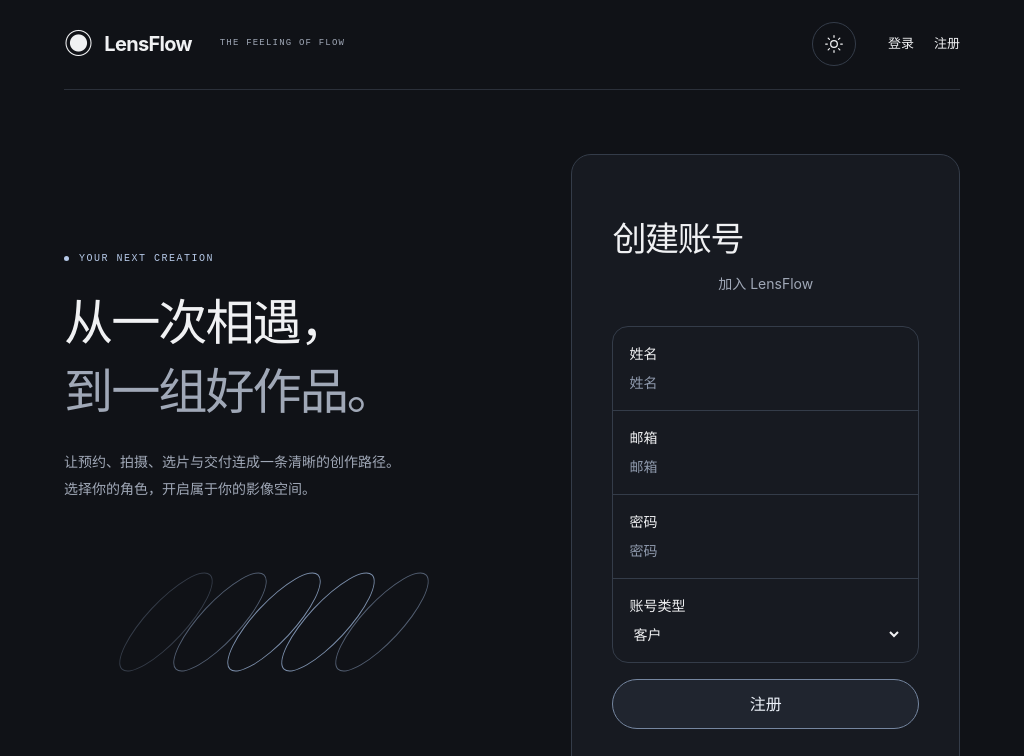
Test: RegisterPage regression › keeps the login link and displays a rejected registration
In the field with placeholder "姓名": {"x": 766, "y": 383} [629,372,902,393], type "新用户"
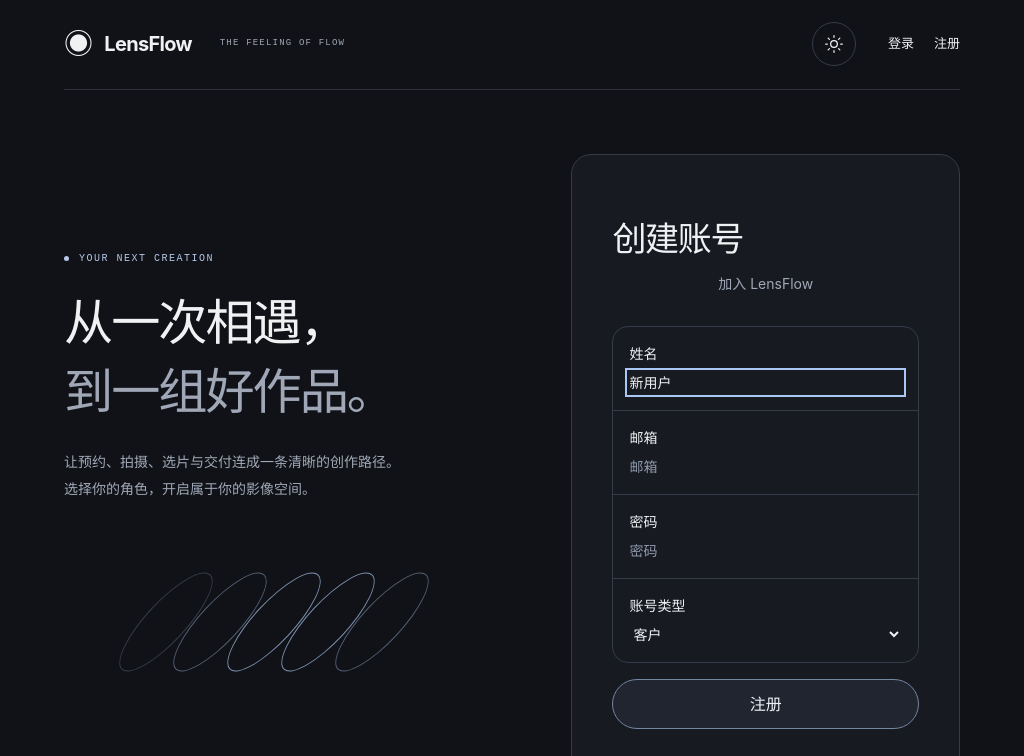
In the field with placeholder "邮箱": {"x": 766, "y": 467} [629,456,902,477], type "new@example.com"
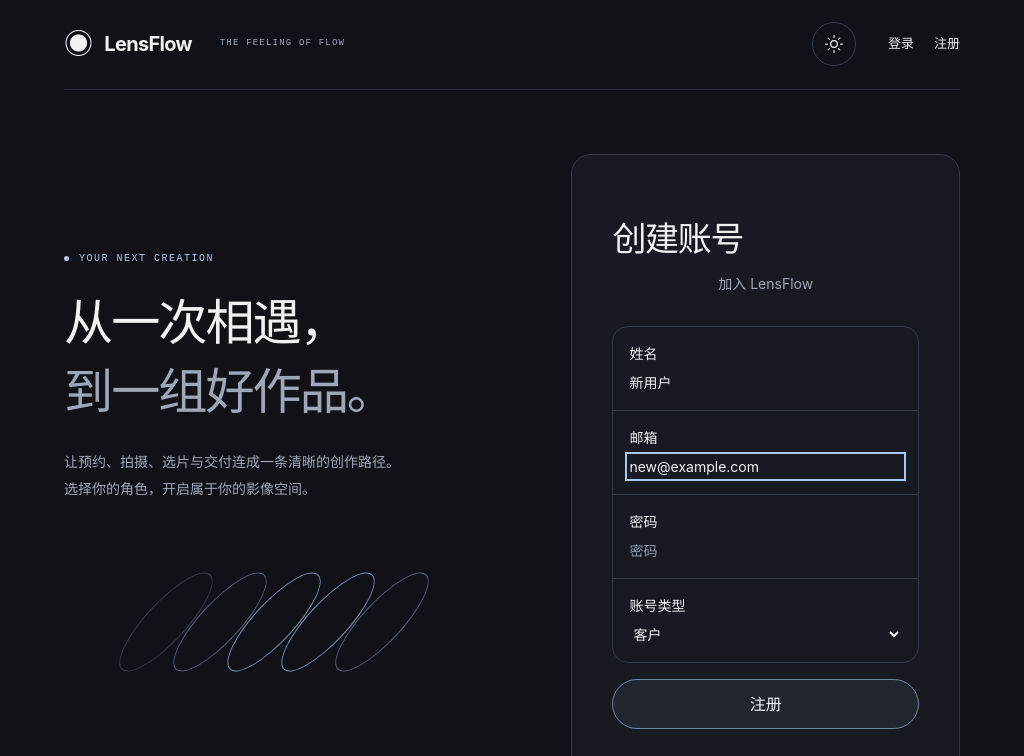
In the password field with placeholder "密码": {"x": 766, "y": 551} [629,540,902,561], type "password123"
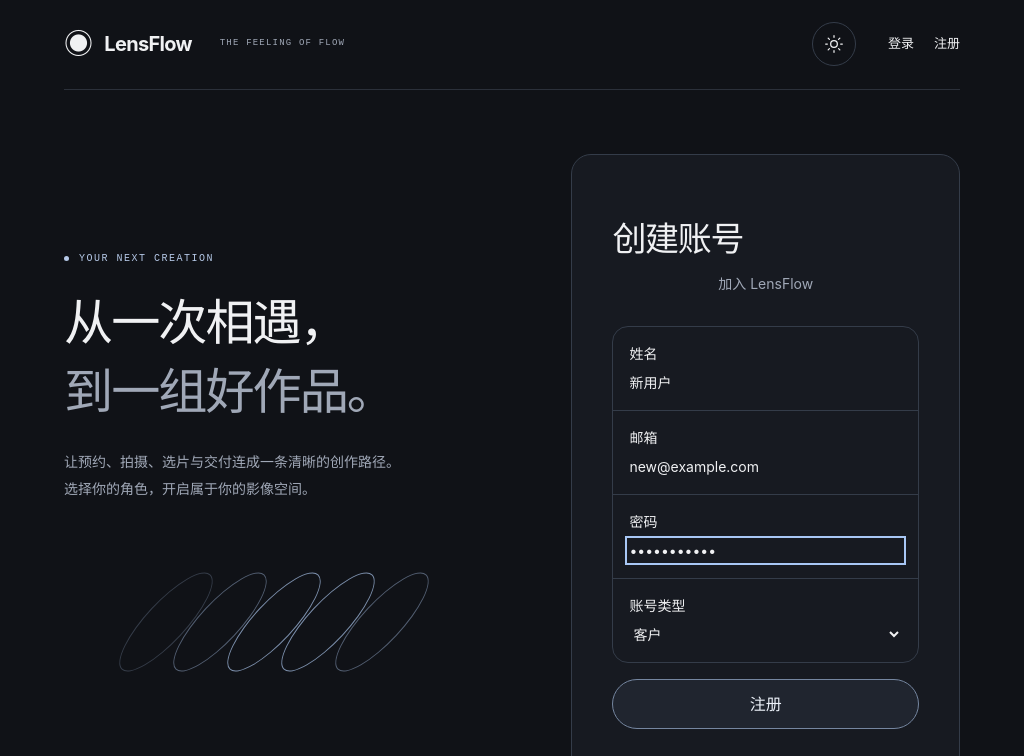
Click the button "注册": {"x": 766, "y": 704} [612,679,919,729]
(page scrolled)
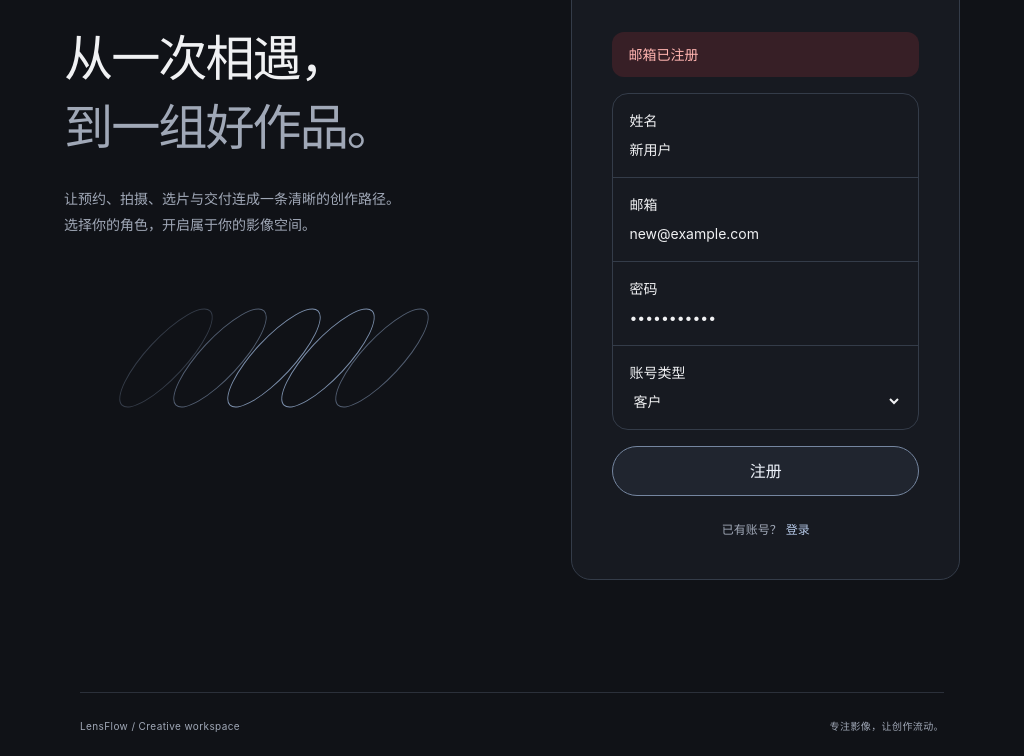
Check: the button "注册" is enabled, box [612,446,919,496]
Check: the text "邮箱已注册" is shown, box [612,32,919,77]
